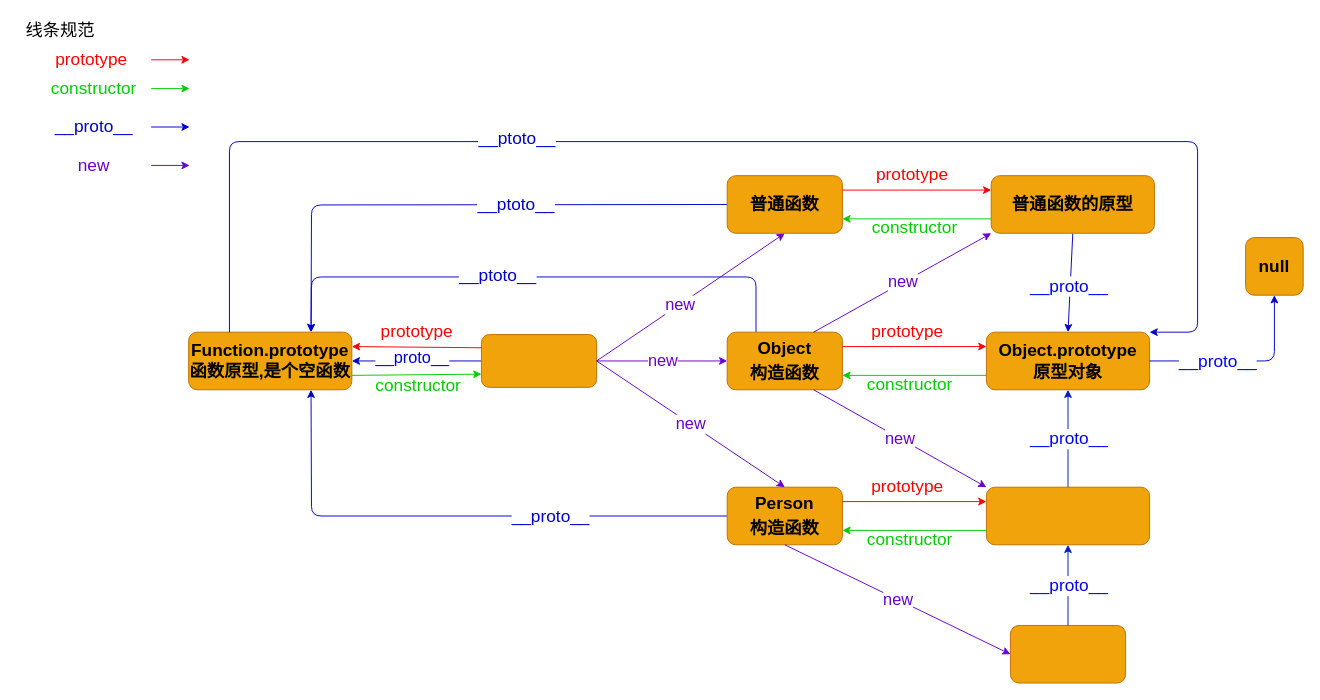
The diagram is 1320 pixels wide and 700 high, and some of its shapes have lost their labels. The centre of each missing label's shape, as x and y in pixels:
"Function" goes at pixel 538 360.
"Person.prototype 实例原型 对象" goes at pixel 1067 515.
"Person的 实例对象" goes at pixel 1067 653.
